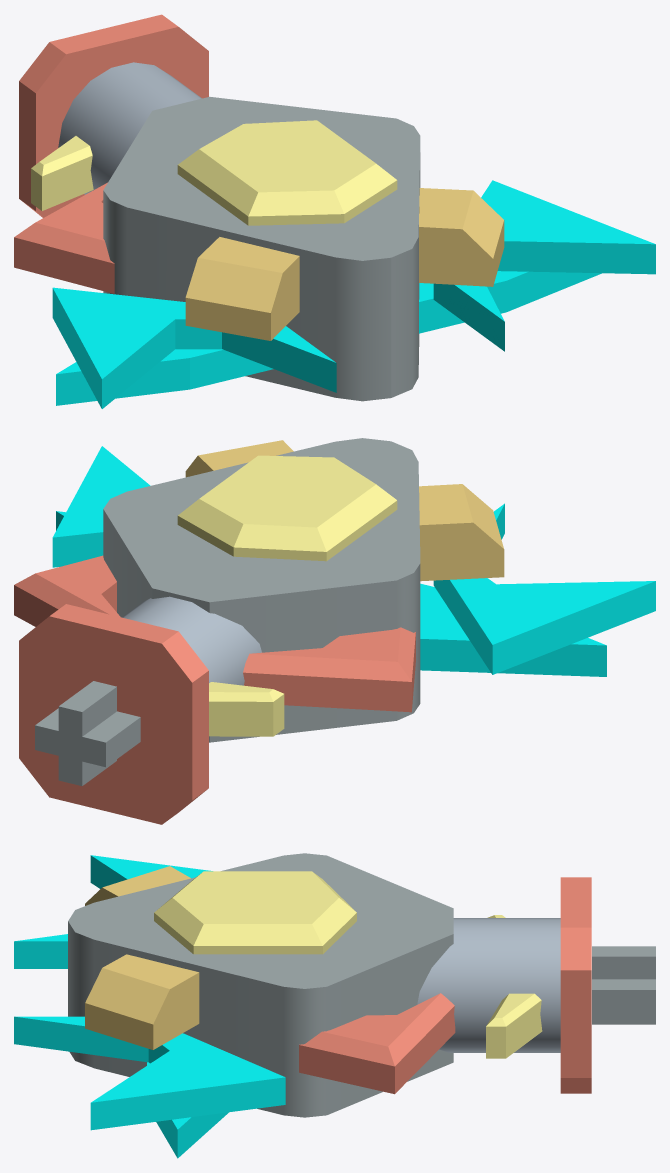
File: port50.gltf
3 views of the same model, one above another, from view 1: azimuth 30°, elevation 25°; view 2: azimuth 150°, elevation 25°; view 3: azimuth 270°, elevation 25° (orthographic). The views are drawn at different scales.
Parts seen in each view (by area): view 1: polySurface328; view 2: polySurface328; view 3: polySurface328.
Part boxes in pixels (x1=…): polySurface328: x1=14, y1=14, x2=655, y2=408; polySurface328: x1=14, y1=438, x2=655, y2=824; polySurface328: x1=14, y1=853, x2=655, y2=1158.
Size of the model in its own units: 0.4542 by 0.146 by 0.4976.
